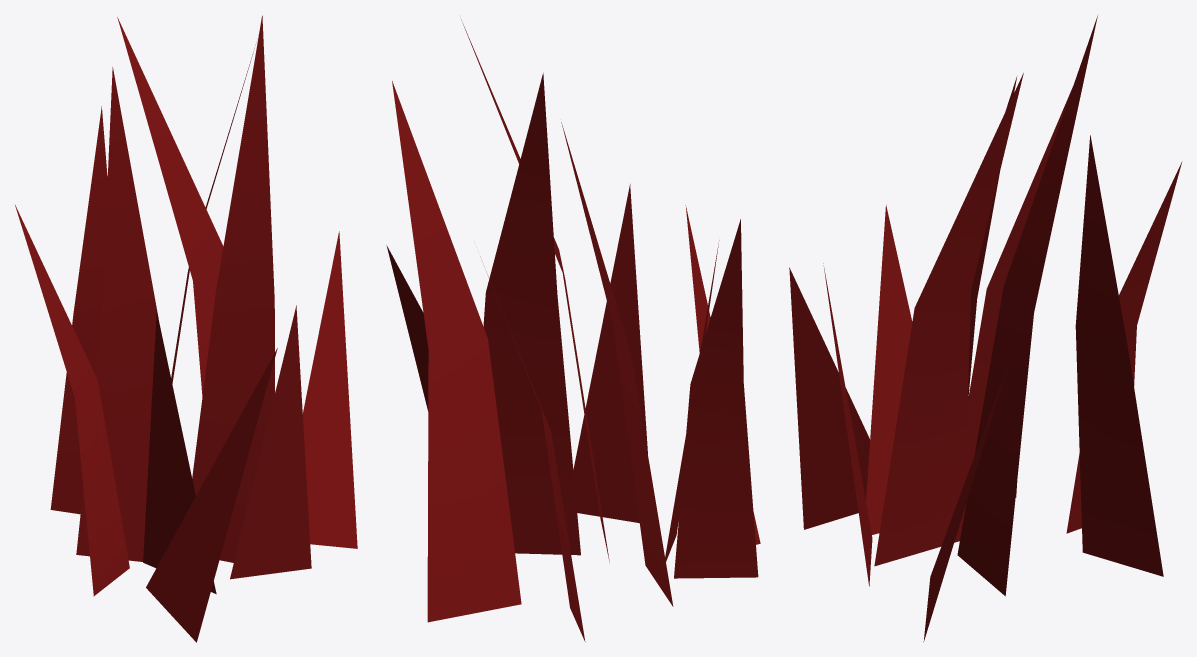
The model's file is Model_Horde_Plants2.fbx.
3 views of the same model, side by side, from view 1: azimuth 30°, elevation 25°; view 2: azimuth 150°, elevation 25°; view 3: azimuth 270°, elevation 25° (orthographic). The views are drawn at different scales.
Parts seen in each view (by area): view 1: cao2; view 2: cao2; view 3: cao2.
Boxes of the visible parts, x1=… form: cao2: x1=15, y1=15, x2=357, y2=642; cao2: x1=386, y1=19, x2=760, y2=641; cao2: x1=789, y1=15, x2=1182, y2=641.
Size of the model in its own units: 42.07 by 63.87 by 41.67.
